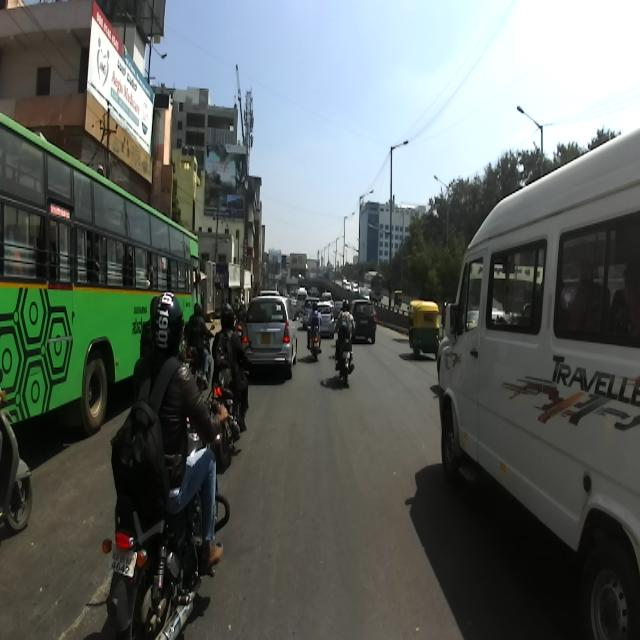bus ahead at: (436, 143, 640, 638)
car ahead at: (242, 292, 300, 377)
motorcycle ahead at: (98, 480, 224, 640)
